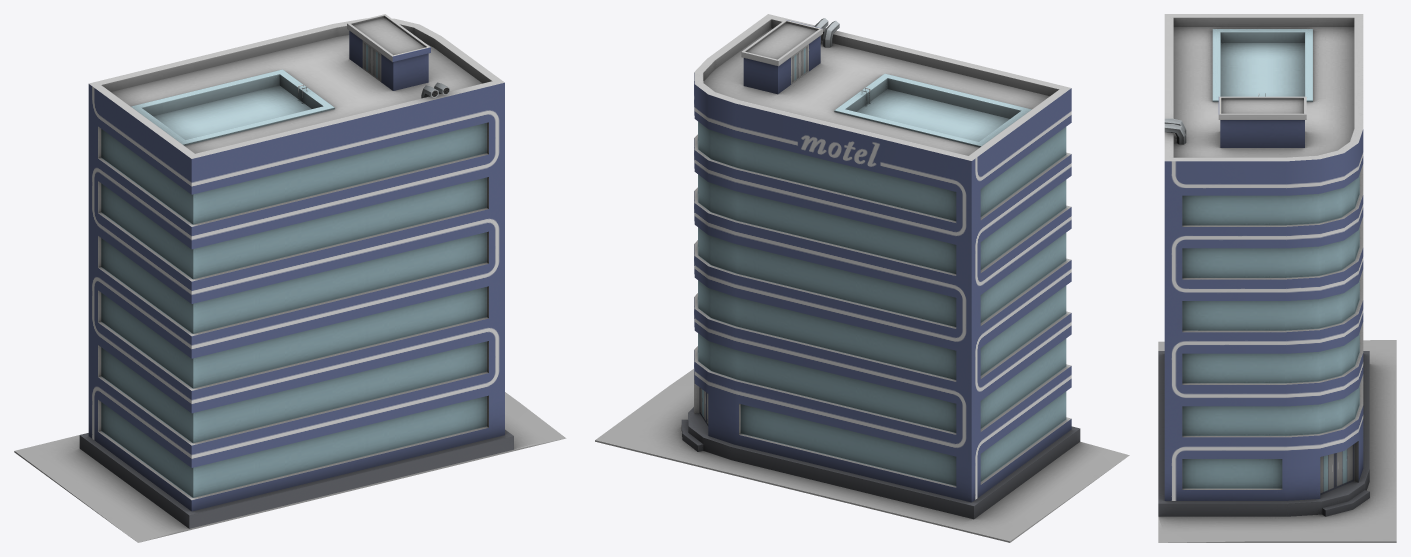
File: HOS0610005.fbx
The picture shows the model from 3 angles, left to right: view 1: azimuth 30°, elevation 25°; view 2: azimuth 150°, elevation 25°; view 3: azimuth 270°, elevation 25°; orthographic projection. The views are drawn at different scales.
Visible parts, largest first — view 1: smHOS0610005; view 2: smHOS0610005; view 3: smHOS0610005.
Boxes of the visible parts, x1,y1,x2,y2 form: smHOS0610005: (14, 14, 566, 542); smHOS0610005: (595, 14, 1129, 542); smHOS0610005: (1158, 14, 1396, 542).
Size of what is drawn, in the model's own units: 2842 by 2495 by 1421.
1 material, 1 textured.
